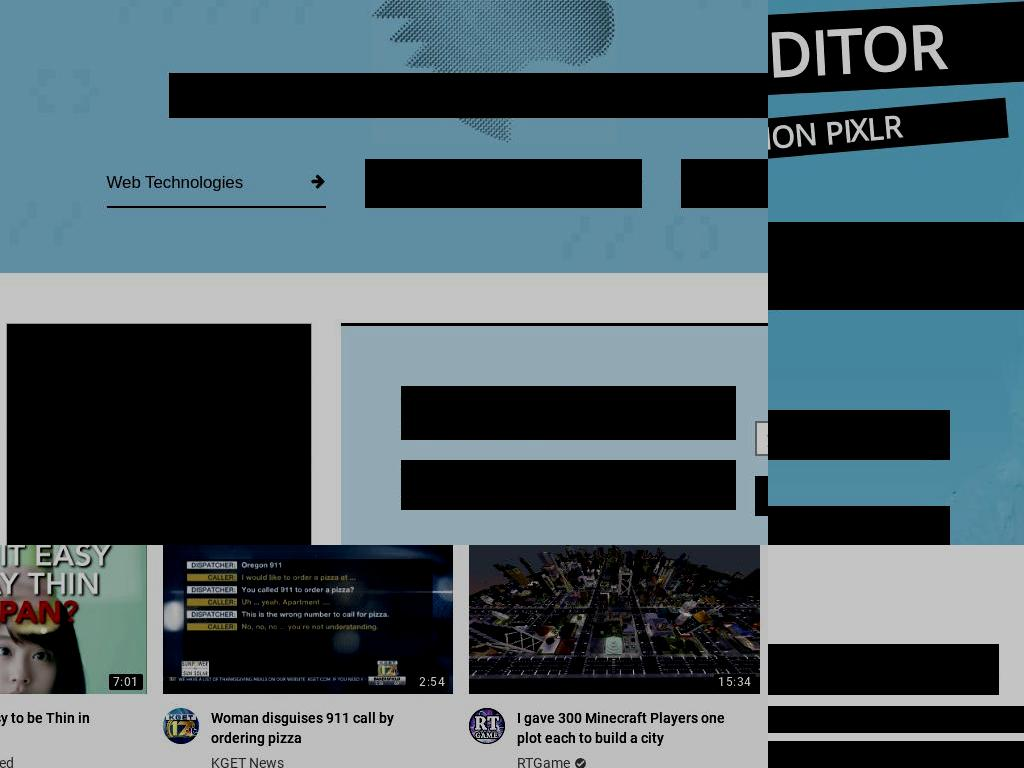button: (7, 324, 311, 545), (162, 545, 454, 695), (469, 545, 760, 695), (0, 545, 147, 695), (365, 159, 642, 208), (106, 159, 326, 208), (768, 410, 950, 460), (210, 708, 430, 749), (517, 708, 736, 749), (768, 506, 950, 545), (0, 708, 123, 749), (96, 522, 299, 545), (681, 159, 768, 208), (162, 708, 199, 745), (469, 708, 506, 745), (210, 754, 286, 768), (517, 754, 572, 768)
heading: (169, 73, 768, 118), (768, 0, 1024, 79), (401, 386, 736, 440), (806, 644, 999, 695), (768, 97, 1008, 138), (210, 708, 430, 749), (517, 708, 736, 749), (0, 708, 123, 749)
image: (162, 545, 454, 695), (469, 545, 760, 695), (0, 545, 147, 695), (162, 708, 199, 745), (469, 708, 506, 745), (574, 756, 588, 768)
link: (24, 336, 299, 410)
text: (768, 222, 1024, 310), (401, 460, 736, 510), (768, 706, 1024, 733), (768, 741, 1024, 768), (365, 173, 545, 192), (106, 173, 244, 192), (681, 173, 768, 192), (718, 676, 752, 689), (112, 676, 139, 689), (419, 676, 446, 689)
